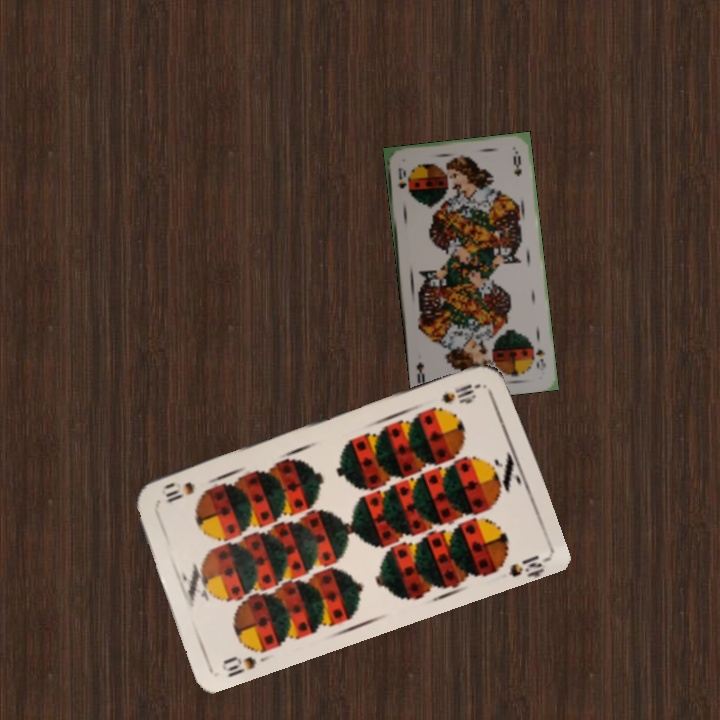S10: (437, 379, 484, 406), (219, 652, 259, 680)
SO: (529, 340, 548, 373), (393, 163, 409, 191)
